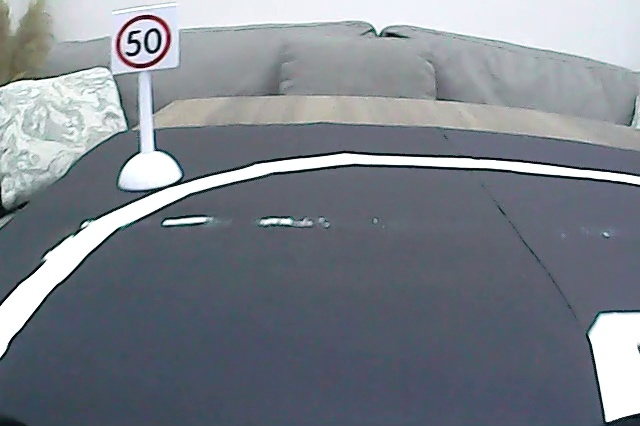speed limit 50: (116, 13, 174, 67)
